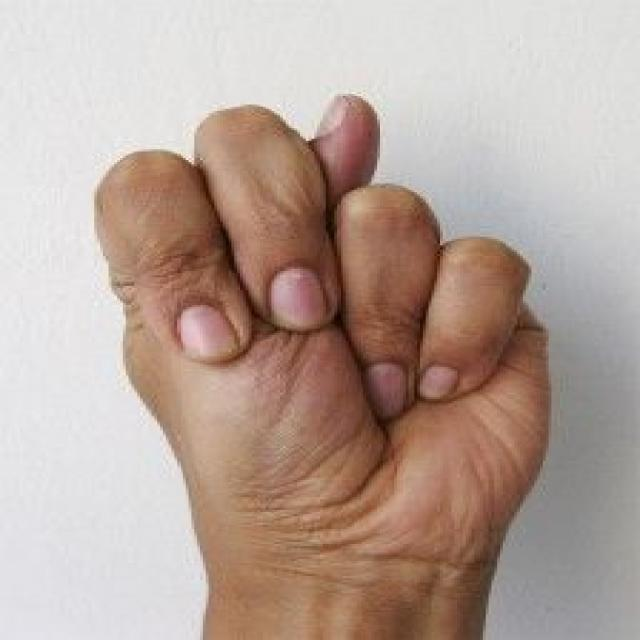Fingernail: (271, 267, 328, 328), (178, 305, 239, 358), (365, 363, 406, 418), (313, 96, 349, 139), (420, 365, 458, 400)
